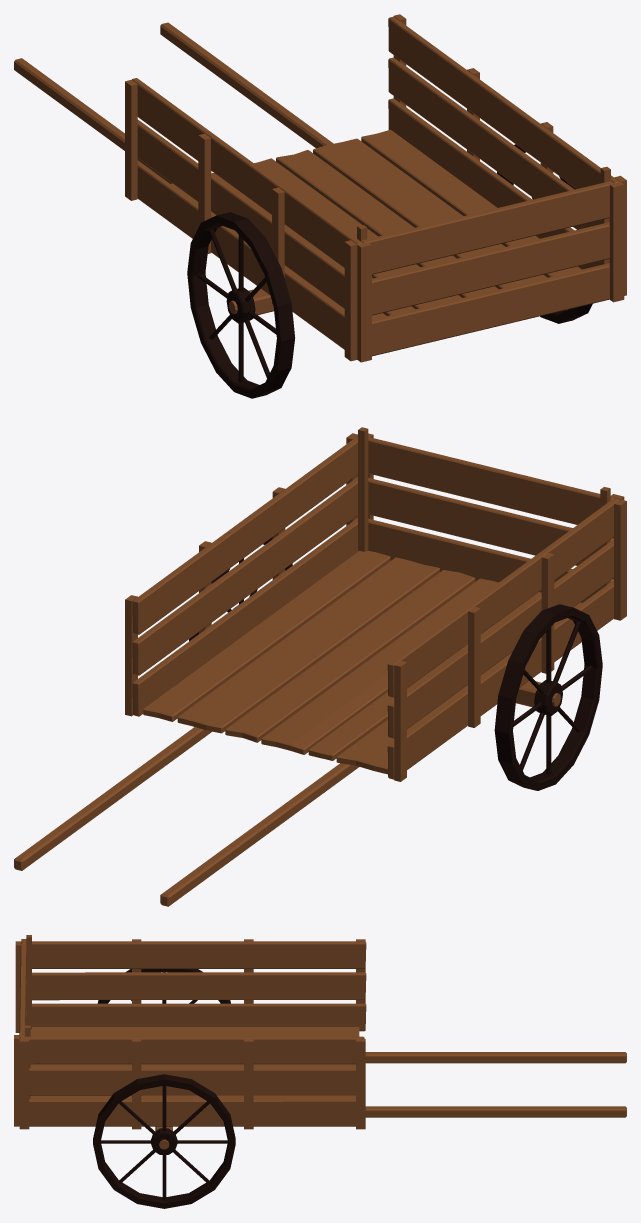
File: source.glb
The picture shows the model from 3 angles, top to bottom: view 1: azimuth 30°, elevation 25°; view 2: azimuth 150°, elevation 25°; view 3: azimuth 270°, elevation 25°; orthographic projection. The views are drawn at different scales.
Visible parts, largest first — view 1: Cart_A; view 2: Cart_A; view 3: Cart_A.
Part boxes in pixels (left/top/right/bottom): Cart_A: left=14, top=14, right=626, bottom=398; Cart_A: left=14, top=427, right=626, bottom=906; Cart_A: left=14, top=935, right=626, bottom=1208.
Bounding box in the file's own units: 171 × 111 × 366.
